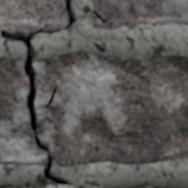brick: (94, 0, 187, 27), (0, 0, 67, 28), (39, 183, 74, 187), (0, 185, 27, 187), (134, 185, 161, 187)
broken_brick: (35, 51, 187, 167), (0, 56, 46, 166)
crack: (0, 0, 76, 185), (126, 0, 138, 19), (92, 9, 105, 24)
